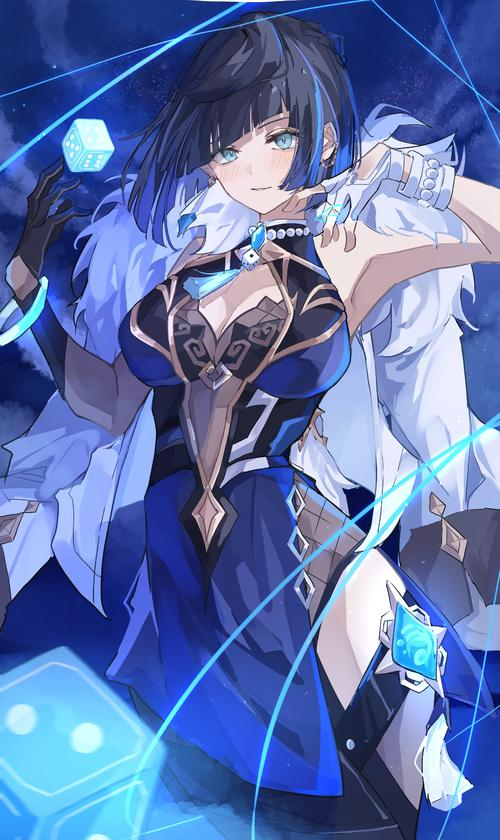夜兰: (5, 16, 500, 840)
